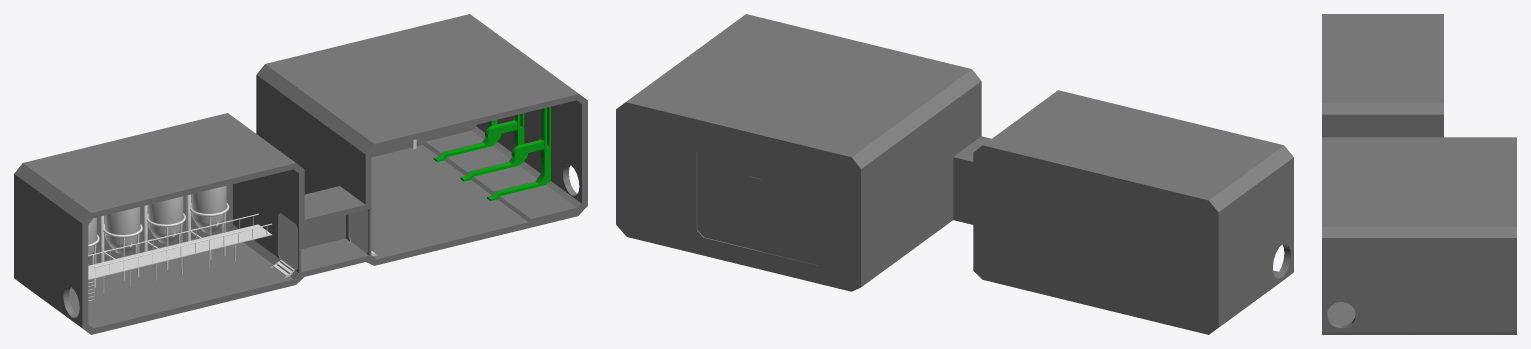
Rendered from Sala2y3-Recolección.FBX.
The picture shows the model from 3 angles, left to right: view 1: azimuth 30°, elevation 25°; view 2: azimuth 150°, elevation 25°; view 3: azimuth 270°, elevation 25°; orthographic projection. The views are drawn at different scales.
Parts seen in each view (by area): view 1: Sala2y3, Pasarela-01, Silo-01, Silo-03, Silo-02, cargador-Robot-01, cargador-Robot-02, PuertaConector-01, PuertaConector-02, cargador-Robot-03; view 2: Sala2y3, puertaRobots-L, puertaRobots-R; view 3: Sala2y3.
Boxes of the visible parts, x1,y1,x2,y2 form: Sala2y3: (14, 14, 587, 334); Pasarela-01: (88, 213, 271, 302); Silo-01: (186, 186, 229, 259); Silo-03: (100, 207, 142, 280); Silo-02: (143, 196, 185, 270); cargador-Robot-01: (487, 106, 550, 200); cargador-Robot-02: (460, 113, 524, 181); PuertaConector-01: (279, 213, 297, 270); PuertaConector-02: (349, 209, 368, 252); cargador-Robot-03: (433, 119, 497, 161); Sala2y3: (616, 14, 1293, 334); puertaRobots-L: (750, 162, 825, 265); puertaRobots-R: (697, 147, 761, 250); Sala2y3: (1322, 14, 1516, 334).
Bounding box in the file's own units: 3994 × 921 × 1495.
